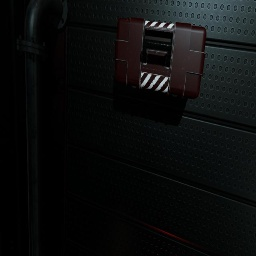FirstAidBox ,: (115, 17, 207, 99)
